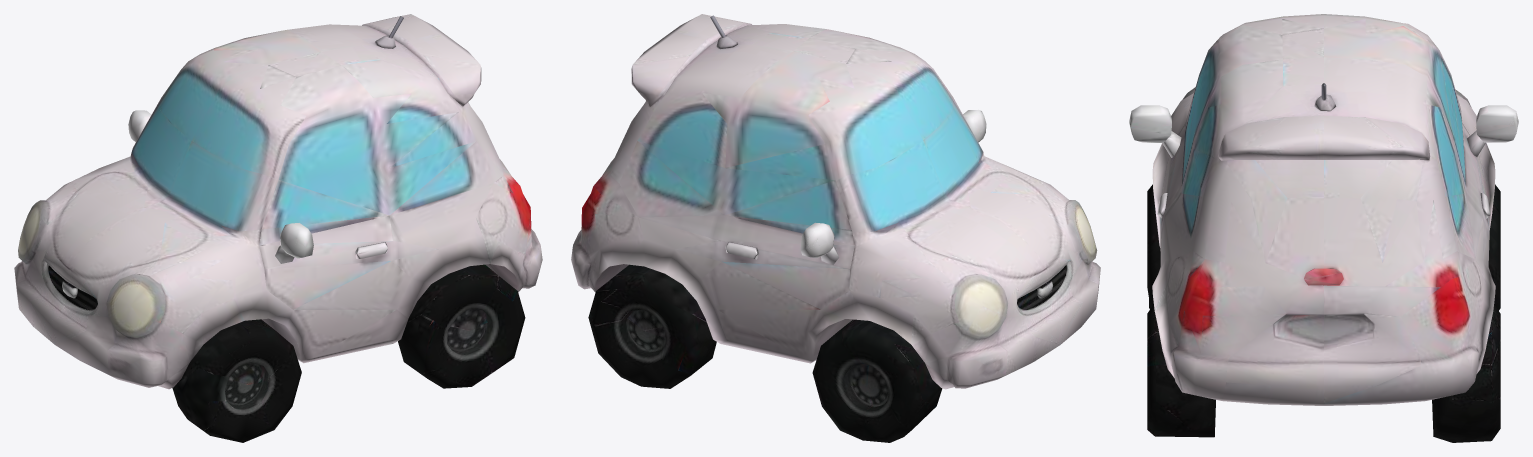
The model's file is car0.glb.
3 renders of one model, left to right at view 1: azimuth 30°, elevation 25°; view 2: azimuth 150°, elevation 25°; view 3: azimuth 270°, elevation 25°, orthographic. The views are drawn at different scales.
Bounding box in the file's own units: 0.9575 × 0.65 × 0.6421.
1 material, 1 textured.
